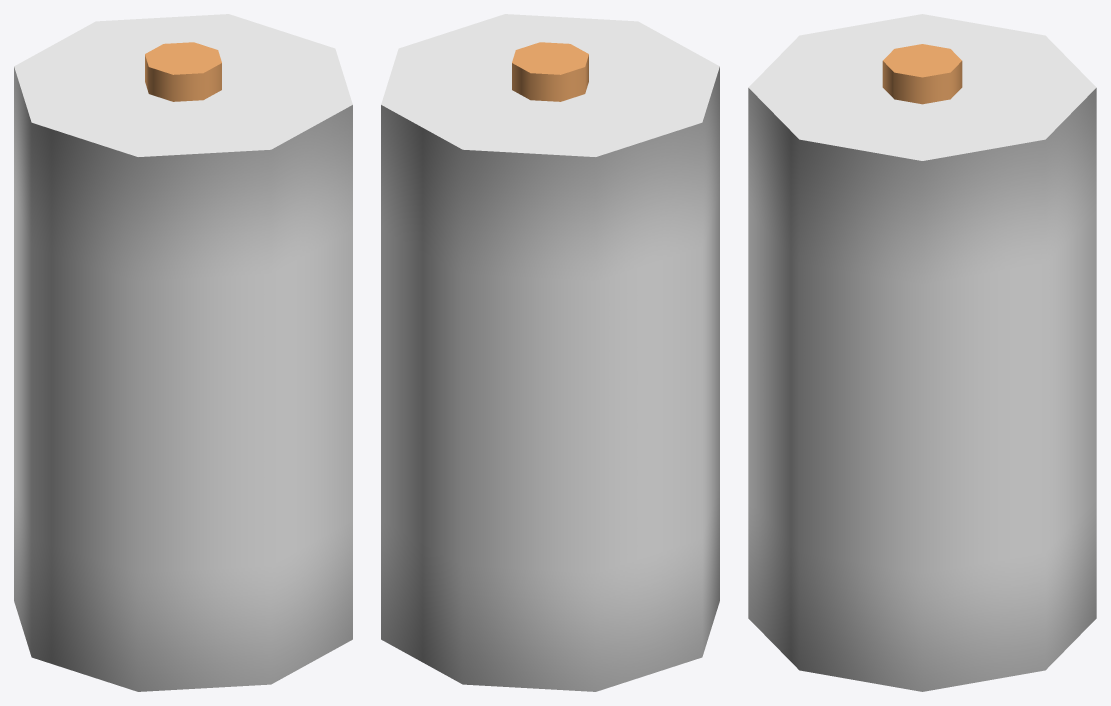
The model's file is spool-5.fbx.
3 renders of one model, left to right at view 1: azimuth 30°, elevation 25°; view 2: azimuth 150°, elevation 25°; view 3: azimuth 270°, elevation 25°, orthographic.
Parts seen in each view (by area): view 1: spool-5; view 2: spool-5; view 3: spool-5.
Boxes of the visible parts, bbox=[...] form: spool-5: bbox=[14, 14, 352, 691]; spool-5: bbox=[381, 14, 719, 691]; spool-5: bbox=[748, 14, 1096, 691].
Bounding box in the file's own units: 6.33 × 11.73 × 6.33.
2 materials, 2 textured.
